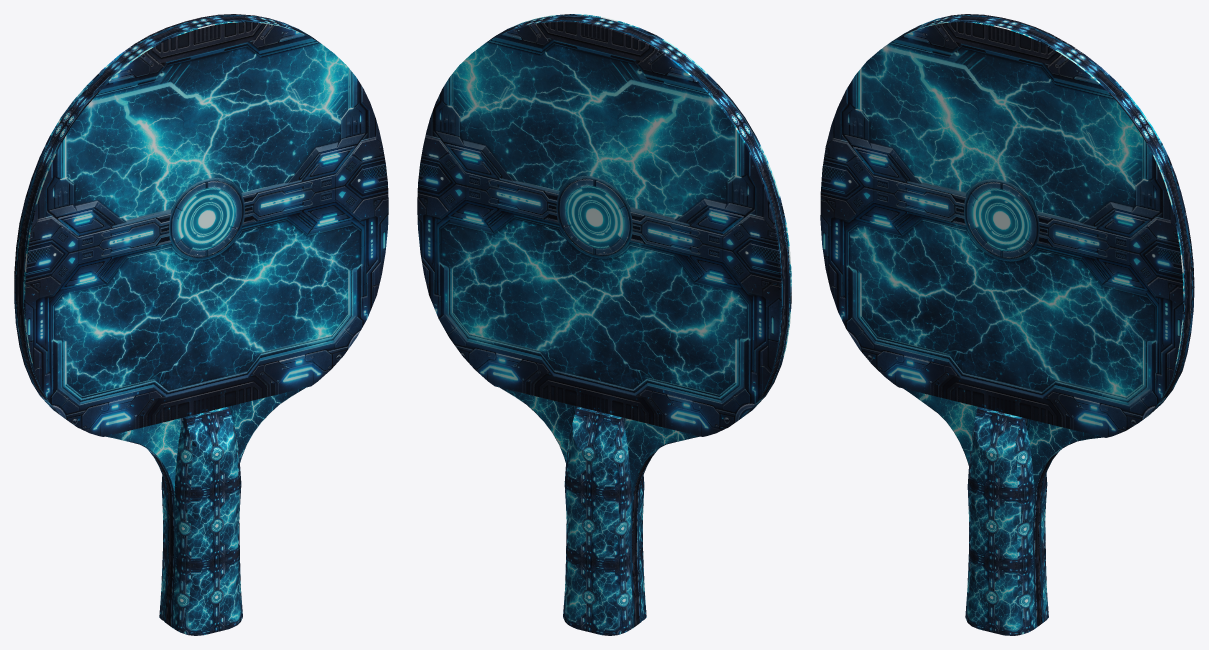
Rendered from Sci-fi_Paleta25.fbx.
3 renders of one model, left to right at view 1: azimuth 30°, elevation 25°; view 2: azimuth 150°, elevation 25°; view 3: azimuth 330°, elevation 25°, orthographic.
Visible parts, largest first — view 1: Plastic clasic, Line032; view 2: Plastic clasic, Line032; view 3: Plastic clasic, Line032.
Part boxes in pixels (x1=…): Plastic clasic: x1=14, y1=14, x2=388, y2=436; Line032: x1=15, y1=15, x2=319, y2=635; Plastic clasic: x1=417, y1=14, x2=791, y2=436; Line032: x1=486, y1=15, x2=790, y2=635; Plastic clasic: x1=820, y1=14, x2=1194, y2=437; Line032: x1=883, y1=15, x2=1193, y2=635.
Bounding box in the file's own units: 14.7 × 23.11 × 2.21.
1 material, 1 textured.
